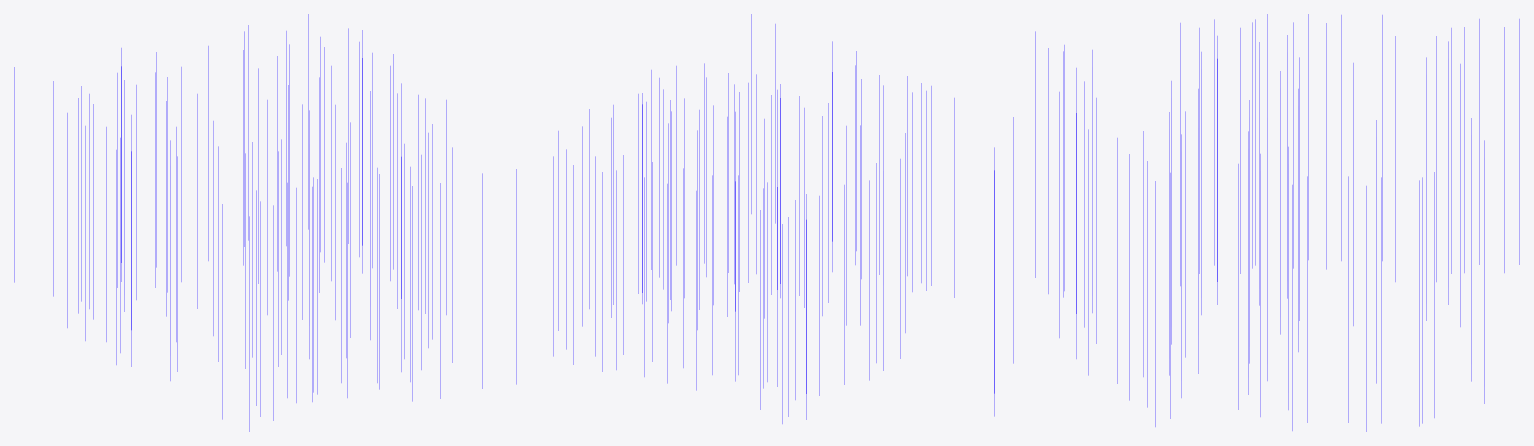
Rendered from stage_lightline_tate_blue.glb.
The picture shows the model from 3 angles, left to right: view 1: azimuth 30°, elevation 25°; view 2: azimuth 150°, elevation 25°; view 3: azimuth 270°, elevation 25°; orthographic projection. The views are drawn at different scales.
Bounding box in the file's own units: 59.75 × 40 × 77.38.
